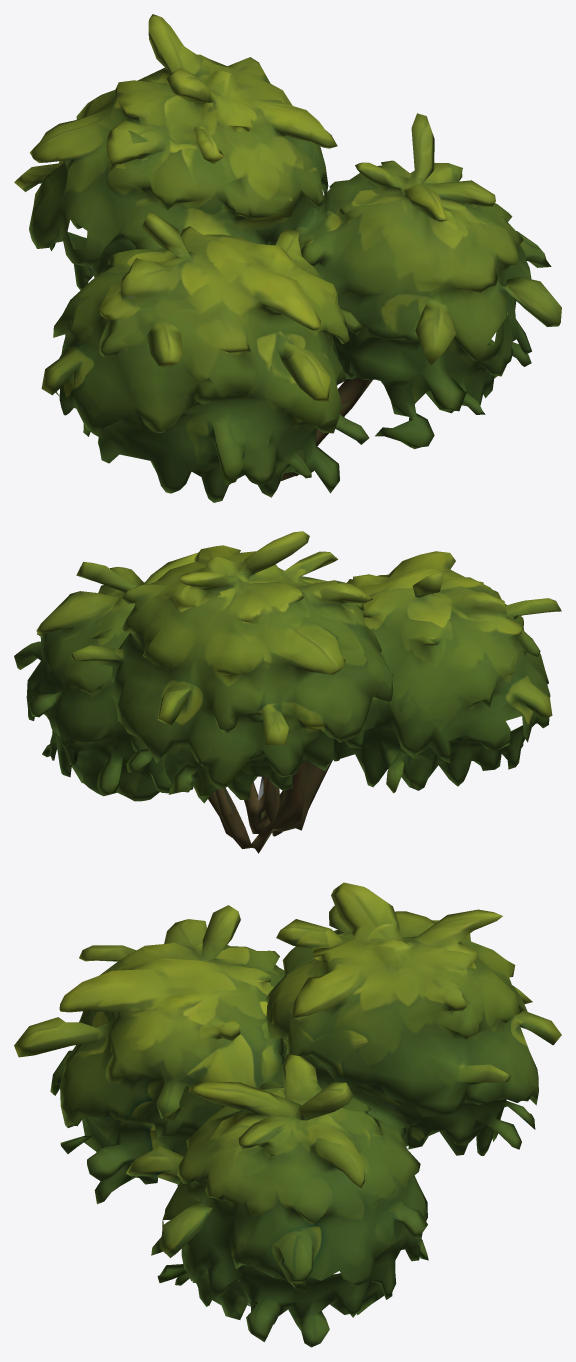
Rendered from meadow_bush.glb.
3 renders of one model, top to bottom at view 1: azimuth 30°, elevation 25°; view 2: azimuth 150°, elevation 25°; view 3: azimuth 270°, elevation 25°, orthographic. The views are drawn at different scales.
Visible parts, largest first — view 1: tripo_node_fbe11354; view 2: tripo_node_fbe11354; view 3: tripo_node_fbe11354.
Boxes of the visible parts, <box> form: tripo_node_fbe11354: <box>14,14,561,502</box>; tripo_node_fbe11354: <box>14,531,561,853</box>; tripo_node_fbe11354: <box>14,882,561,1347</box>.
Bounding box in the file's own units: 96.45 × 63.94 × 86.44.
1 material, 1 textured.
